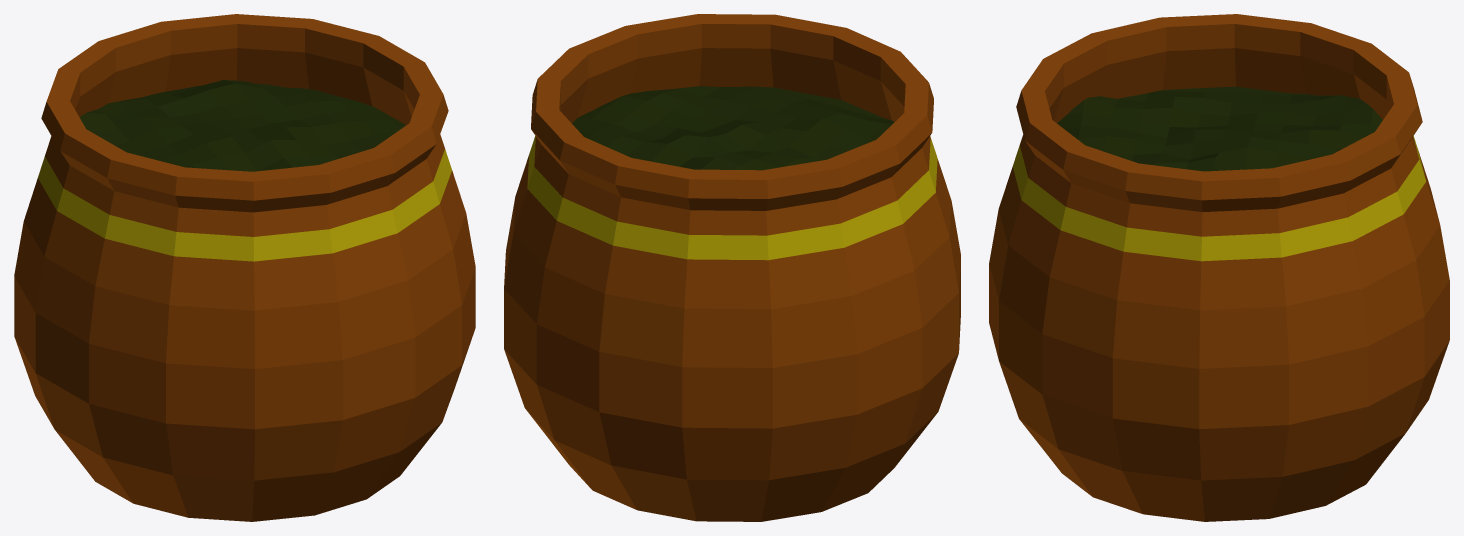
The model's file is potA.glb.
3 views of the same model, side by side, from view 1: azimuth 30°, elevation 25°; view 2: azimuth 150°, elevation 25°; view 3: azimuth 270°, elevation 25° (orthographic).
Parts seen in each view (by area): view 1: pot.001, dirt; view 2: pot.001, dirt; view 3: pot.001, dirt.
Part boxes in pixels (<box>): pot.001: <box>14,14,475,521</box>; dirt: <box>79,80,406,171</box>; pot.001: <box>504,14,960,521</box>; dirt: <box>572,86,894,170</box>; pot.001: <box>989,14,1449,521</box>; dirt: <box>1057,86,1382,171</box>.
Size of the model in its own units: 1.6 by 1.36 by 1.6.
